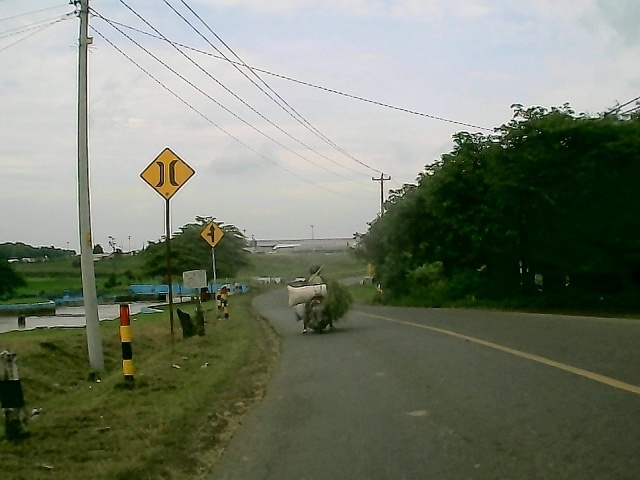Jembatan: (136, 146, 196, 204)
Simpang kiri dengan prioritas: (199, 219, 225, 247)
